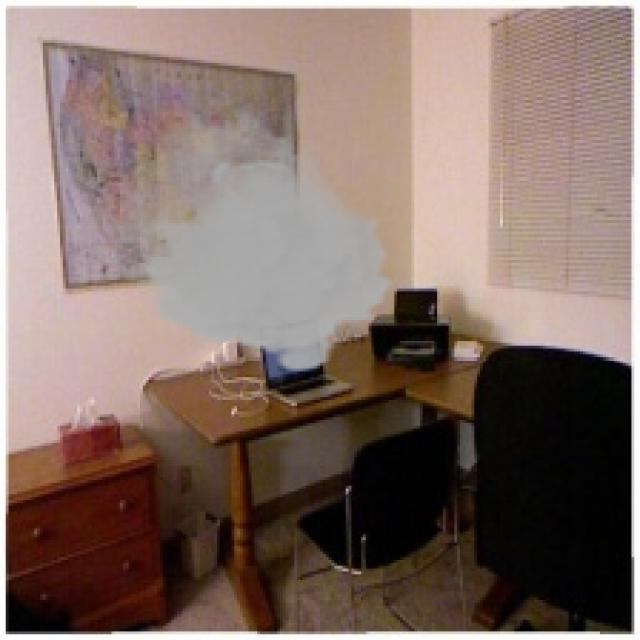smoke: (120, 103, 397, 374)
